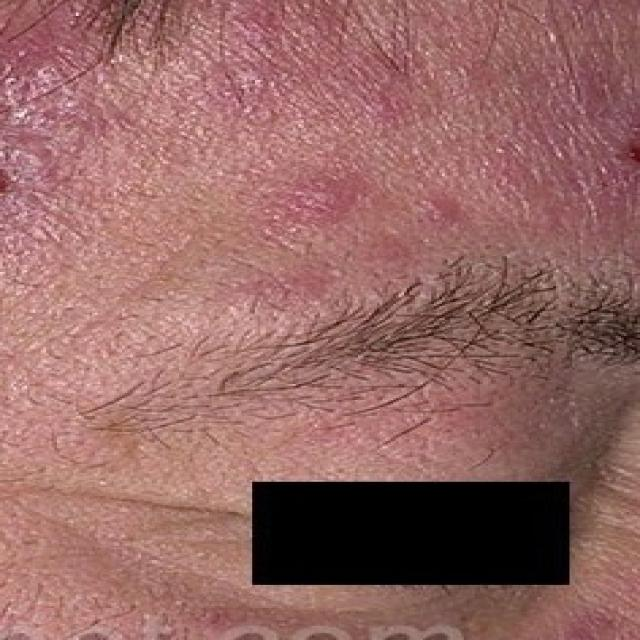Rosacea: (0, 36, 621, 226)
